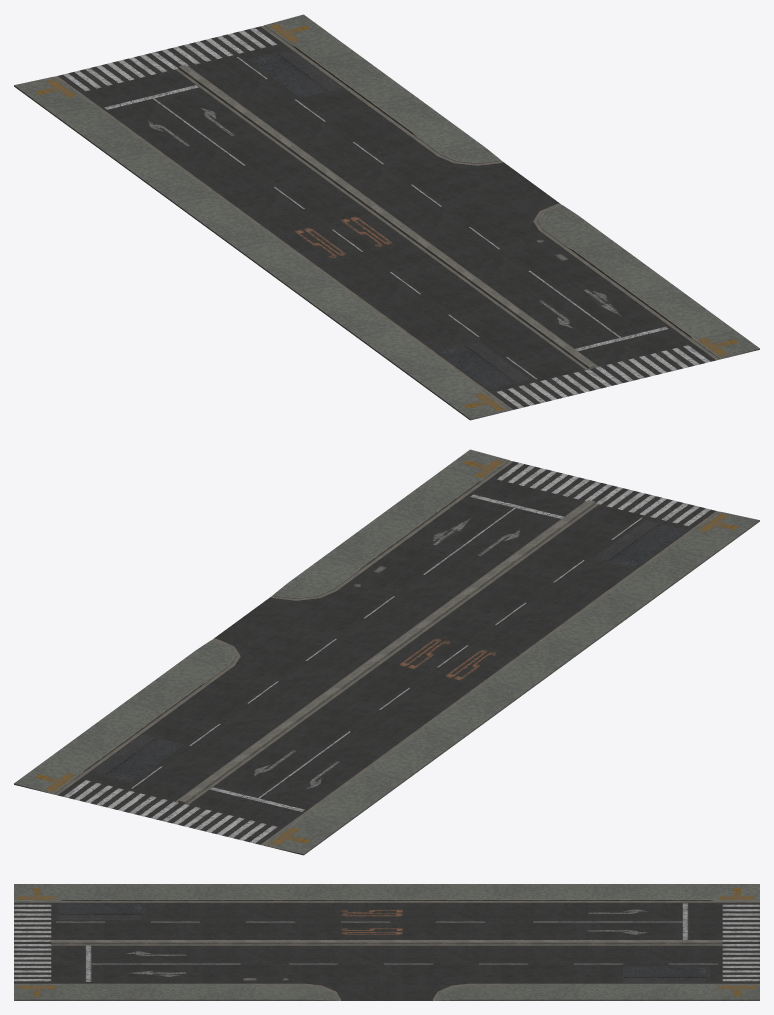
The model's file is jctlowRoad22mC_b.fbx.
3 renders of one model, top to bottom at view 1: azimuth 30°, elevation 25°; view 2: azimuth 150°, elevation 25°; view 3: azimuth 270°, elevation 25°, orthographic. The views are drawn at different scales.
Parts seen in each view (by area): view 1: jctlowRoad22mC_b; view 2: jctlowRoad22mC_b; view 3: jctlowRoad22mC_b.
Part boxes in pixels (left/top/right/bottom): jctlowRoad22mC_b: left=14, top=14, right=759, bottom=420; jctlowRoad22mC_b: left=14, top=449, right=759, bottom=855; jctlowRoad22mC_b: left=14, top=884, right=759, bottom=1000.
Size of the model in its own units: 2200 by 15 by 6000.
4 materials, 4 textured.
